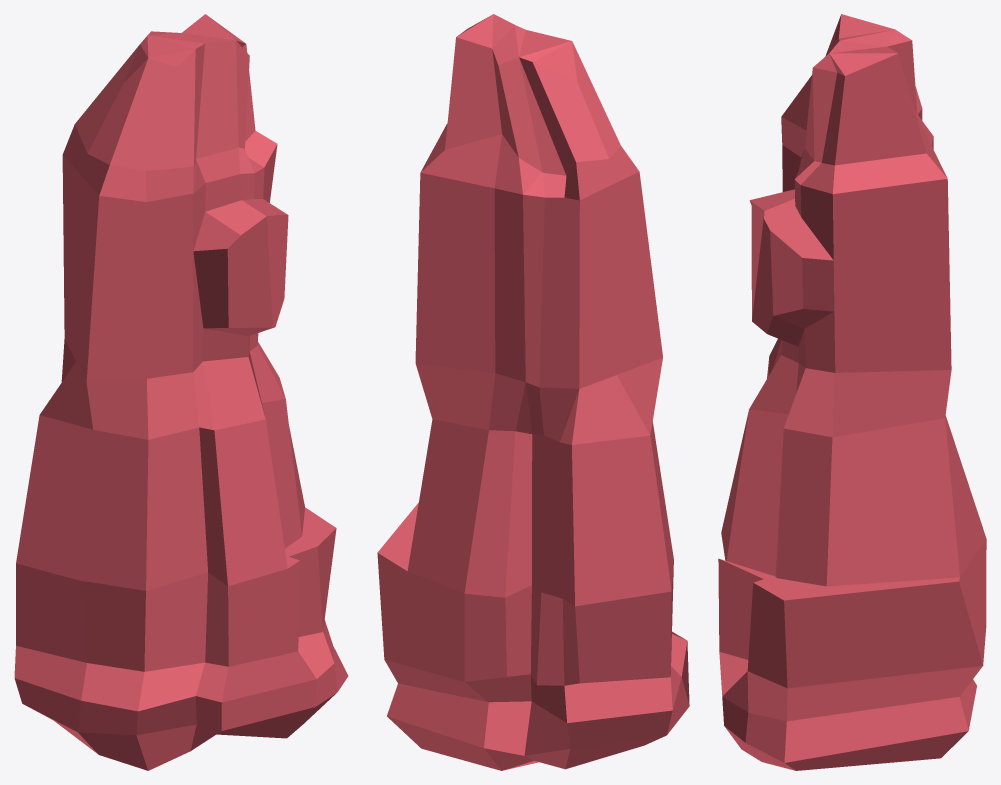
The model's file is decoration-rock-pillar.fbx.
The picture shows the model from 3 angles, left to right: view 1: azimuth 30°, elevation 25°; view 2: azimuth 150°, elevation 25°; view 3: azimuth 270°, elevation 25°; orthographic projection. The views are drawn at different scales.
Visible parts, largest first — view 1: decoration-rock-pillar; view 2: decoration-rock-pillar; view 3: decoration-rock-pillar.
Part boxes in pixels (x1,y1,x2,y2): decoration-rock-pillar: [14, 14, 348, 770]; decoration-rock-pillar: [377, 14, 689, 770]; decoration-rock-pillar: [718, 14, 986, 770].
Bounding box in the file's own units: 3.01 × 6.75 × 2.34.
